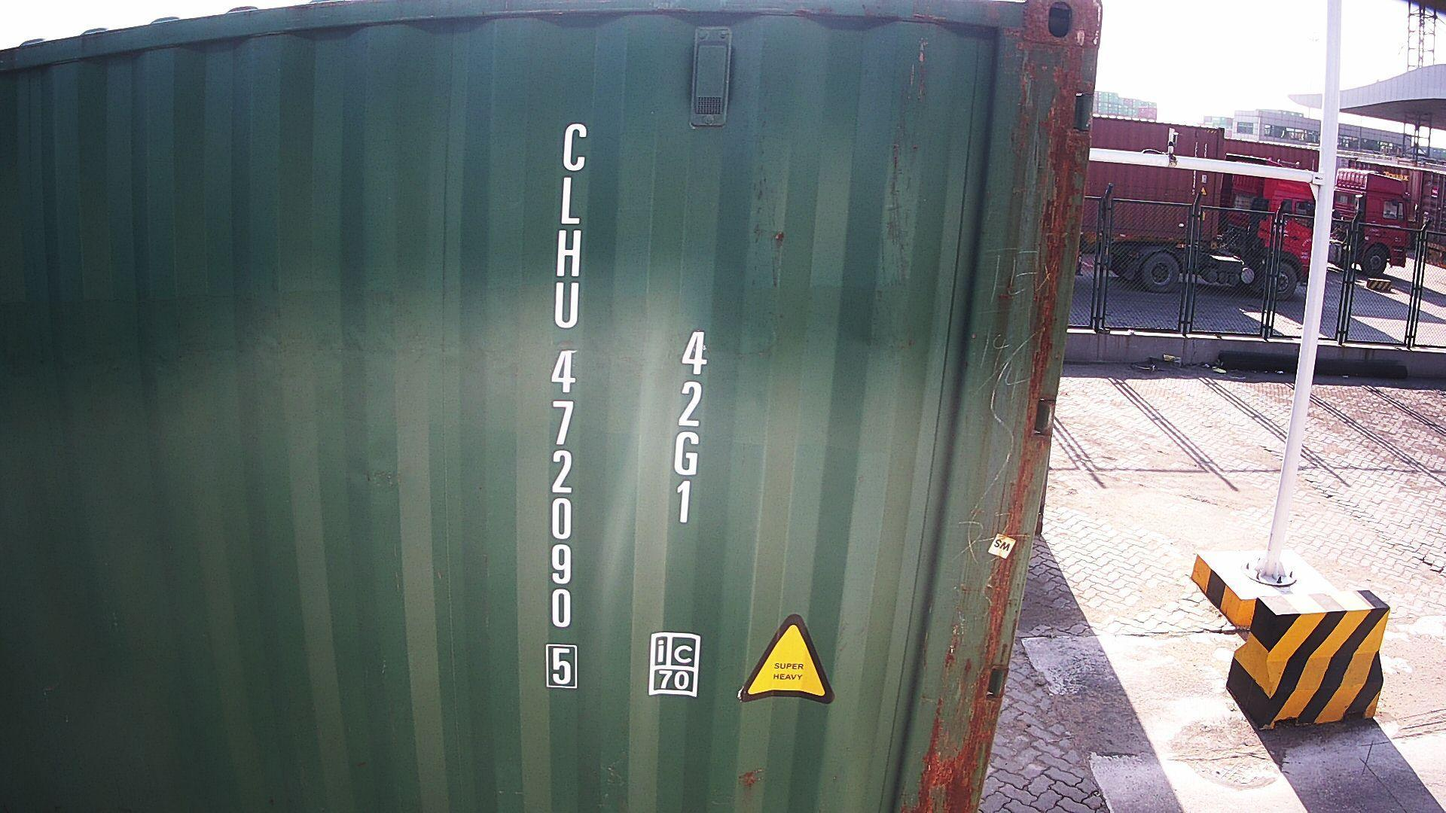container-numbers: (535, 117, 590, 702), (666, 328, 714, 530)
